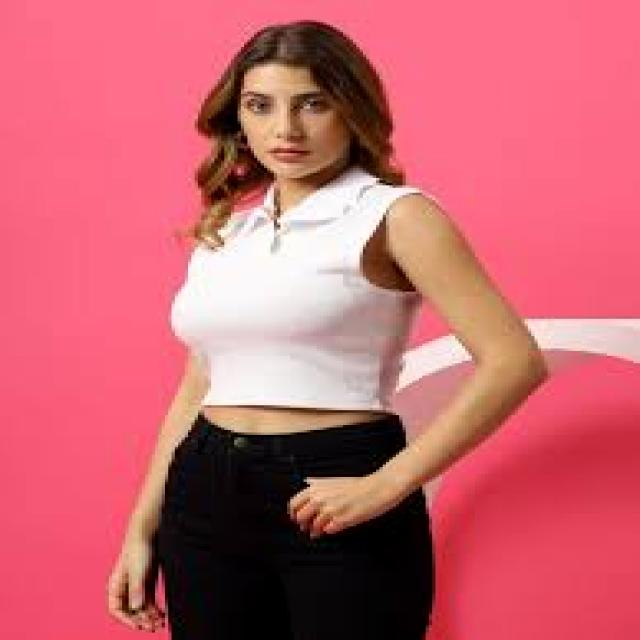face: (238, 62, 352, 180)
lower-wear: (156, 413, 435, 639)
top-wear: (172, 164, 422, 410)
